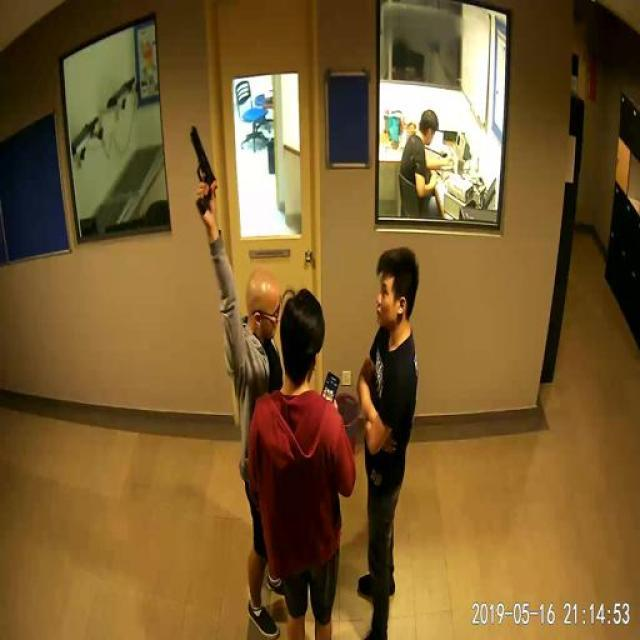Gun: (173, 115, 227, 217)
